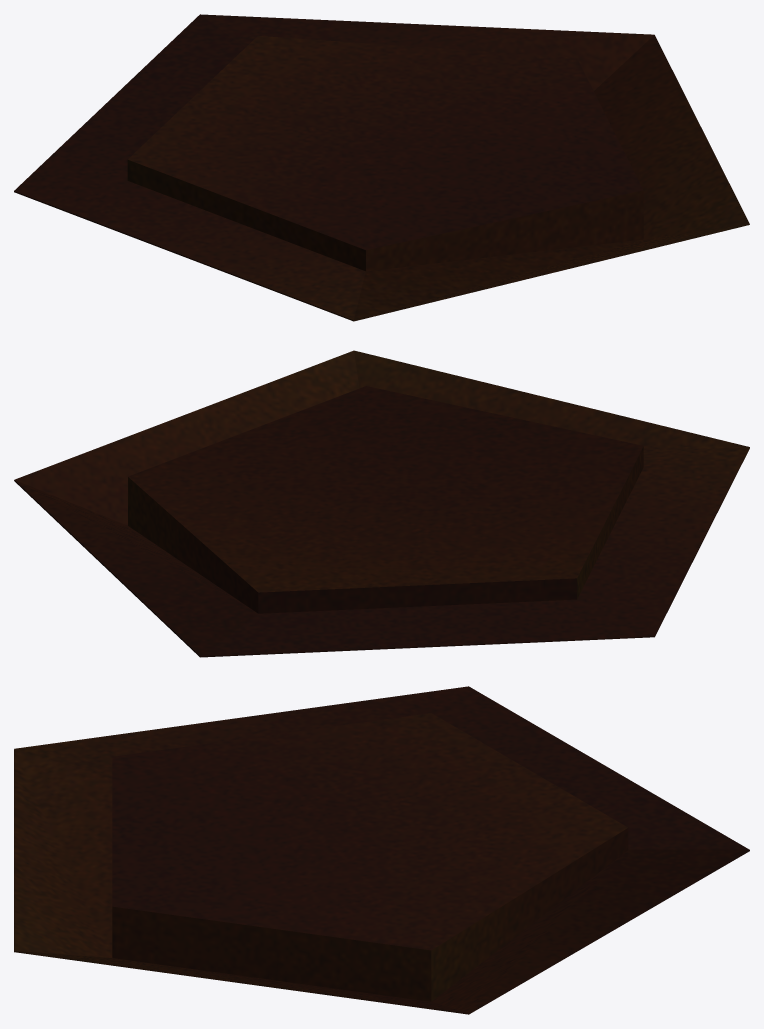
Rendered from CountryHole.fbx.
The picture shows the model from 3 angles, top to bottom: view 1: azimuth 30°, elevation 25°; view 2: azimuth 150°, elevation 25°; view 3: azimuth 270°, elevation 25°; orthographic projection. The views are drawn at different scales.
Visible parts, largest first — view 1: CountryHole; view 2: CountryHole; view 3: CountryHole.
Boxes of the visible parts, left/top/right/bottom form: CountryHole: left=14, top=14, right=749, bottom=321; CountryHole: left=14, top=350, right=749, bottom=657; CountryHole: left=14, top=686, right=749, bottom=1014.
Bounding box in the file's own units: 271 × 23.51 × 258.
